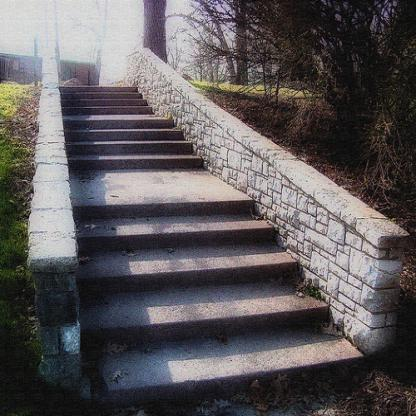stairs: (114, 221, 270, 416)
